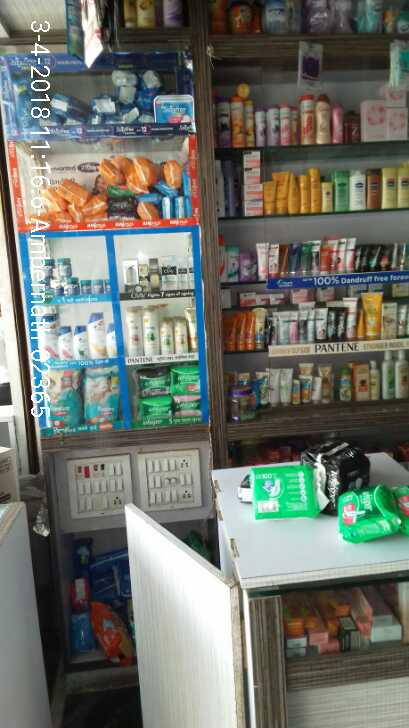vicks: (36, 257, 113, 297)
